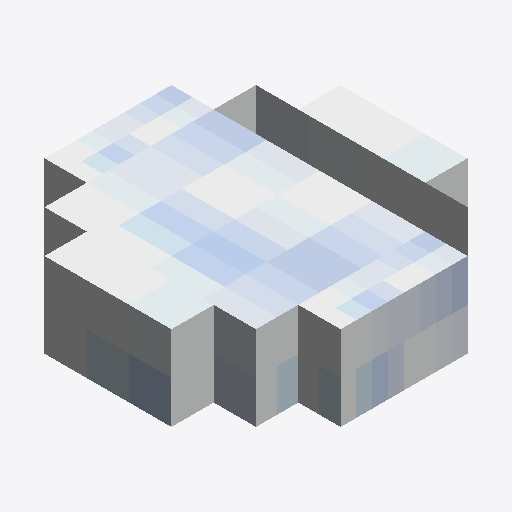
A Minecraft block model of 5 cuboids, rendered isometrically (azimuth 45°, elevation 35.3°) with the resource pack's own textures.
Visible parts, largest first — element 2, element 3, element 4, element 5, element 1.
Part boxes in pixels (left/top/right/bottom): element 2: left=44, top=85, right=467, bottom=426; element 3: left=298, top=232, right=467, bottom=426; element 4: left=44, top=232, right=213, bottom=426; element 5: left=298, top=85, right=467, bottom=206; element 1: left=44, top=85, right=213, bottom=206.
Size of the model in its own units: 7 by 2 by 7.